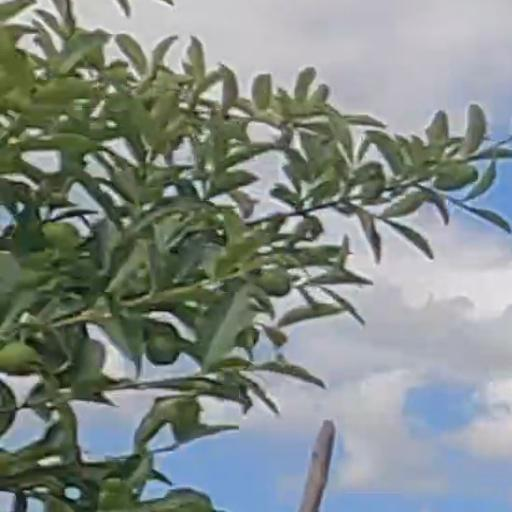acerola: (147, 335, 179, 366), (4, 341, 34, 372)
